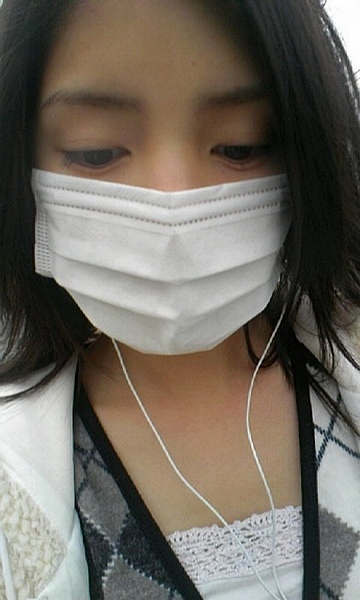face_mask: (33, 1, 288, 356)
